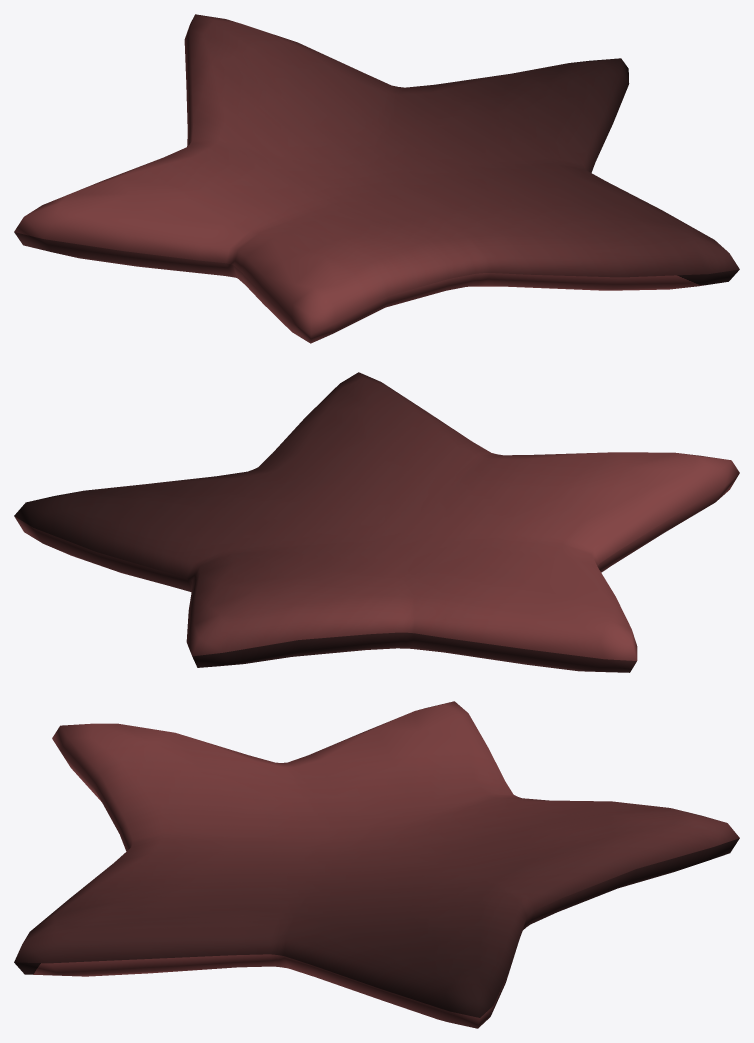
File: star.glb
3 renders of one model, top to bottom at view 1: azimuth 30°, elevation 25°; view 2: azimuth 150°, elevation 25°; view 3: azimuth 270°, elevation 25°, orthographic. The views are drawn at different scales.
Parts seen in each view (by area): view 1: cc_star6; view 2: cc_star6; view 3: cc_star6.
Part boxes in pixels (x1,y1,x2,y2): cc_star6: (14,14,739,343); cc_star6: (14,372,739,672); cc_star6: (14,701,739,1028).
Size of the model in its own units: 0.0948 by 0.0139 by 0.0942.
Materials: 1 (1 with a texture image).
